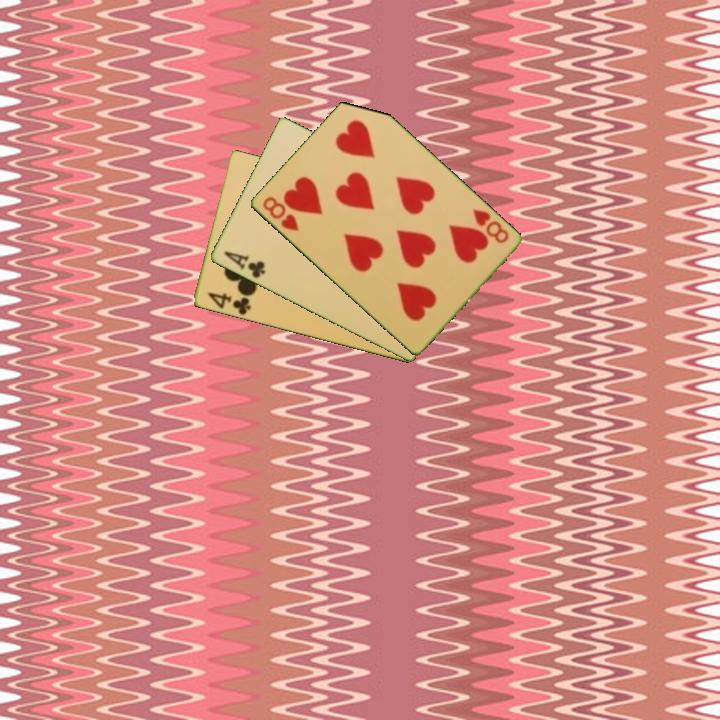4c: (204, 289, 253, 318)
8h: (259, 193, 301, 234), (469, 205, 511, 246)
Ac: (220, 248, 268, 281)
